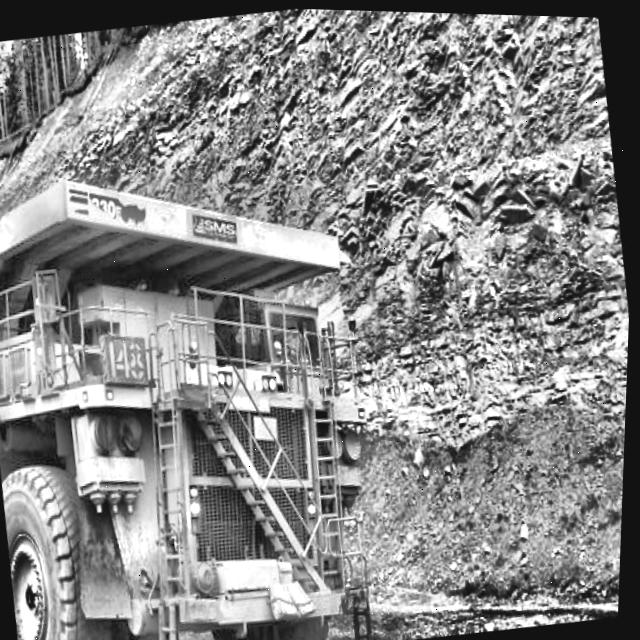dump_truck: (0, 129, 418, 640)
